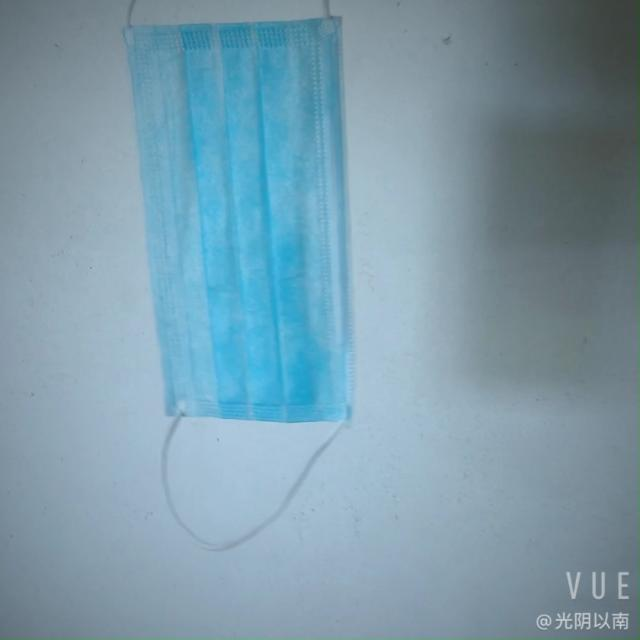face mask: (113, 16, 383, 424)
